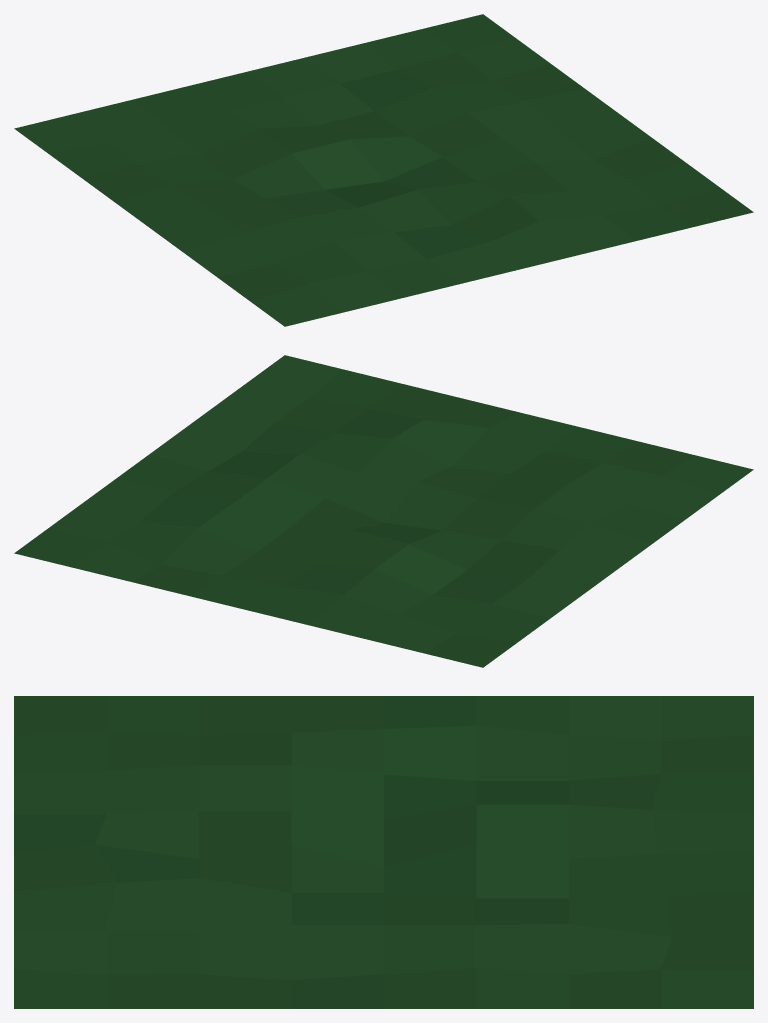
File: Terrain_15_Dark_Green.fbx
The picture shows the model from 3 angles, top to bottom: view 1: azimuth 30°, elevation 25°; view 2: azimuth 150°, elevation 25°; view 3: azimuth 270°, elevation 25°; orthographic projection. The views are drawn at different scales.
Visible parts, largest first — view 1: Terrain_15_Dark_Green; view 2: Terrain_15_Dark_Green; view 3: Terrain_15_Dark_Green.
Part boxes in pixels (<box>): Terrain_15_Dark_Green: <box>14,14,753,326</box>; Terrain_15_Dark_Green: <box>14,355,753,667</box>; Terrain_15_Dark_Green: <box>14,696,753,1008</box>.
Size of the model in its own units: 6000 by 252 by 6000.
